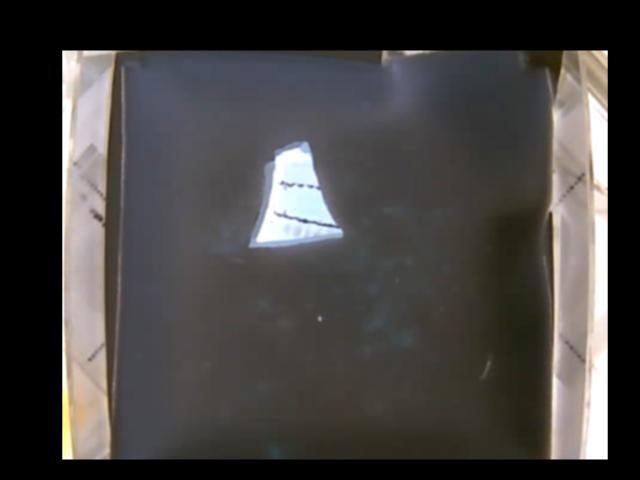China: (248, 141, 341, 250)
